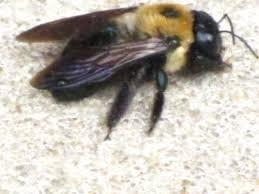Xylocopa: (20, 2, 246, 139)
